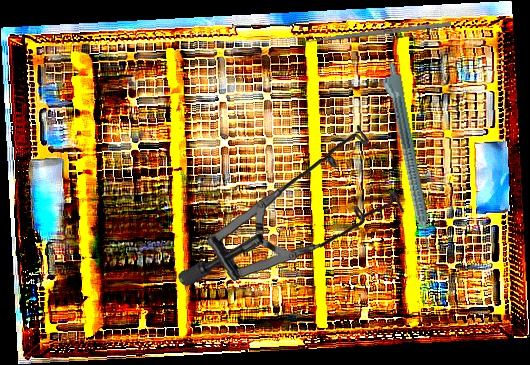Handpiece: (377, 61, 435, 253)
Pusher: (293, 21, 452, 46)
Speculum: (175, 114, 409, 299)
